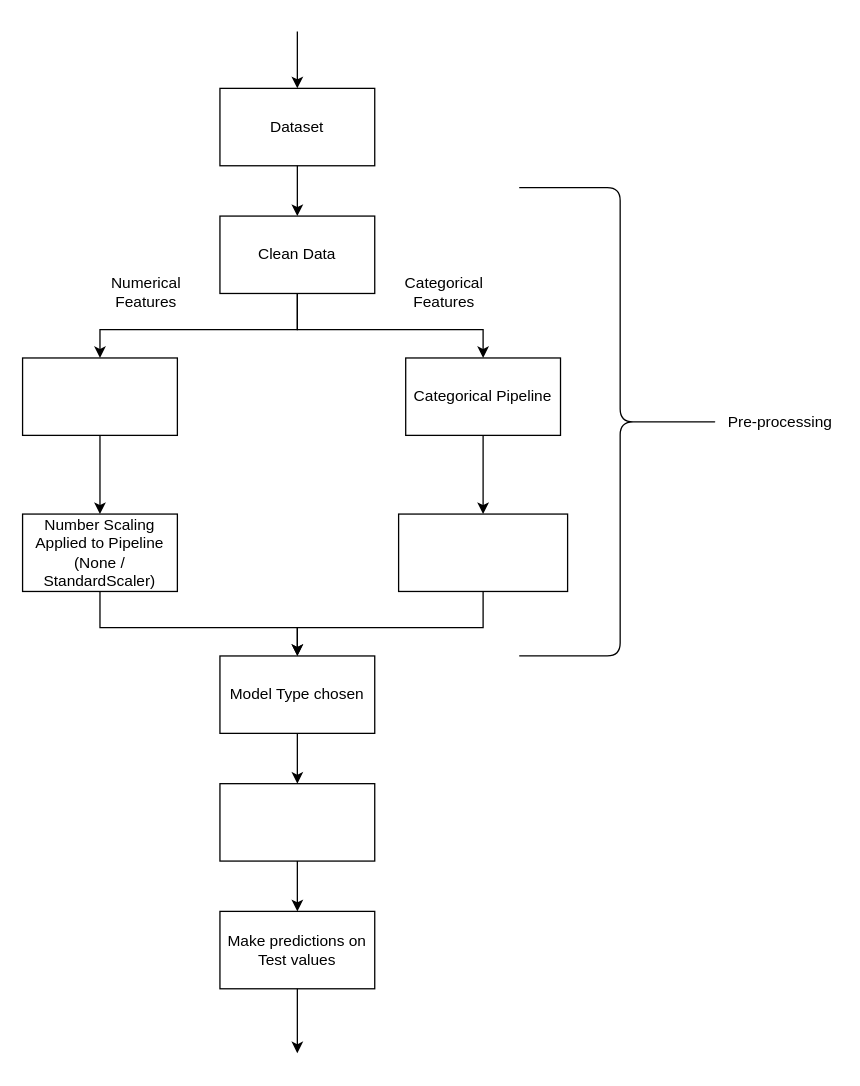
Image size: 860x1086. Some labels were removed from this diagram. Here are the shapes that lost their labels. From the top down, the box of each, then its label:
(21, 357, 177, 435): Numerical Pipeline
(397, 513, 568, 591): Categorical Encoding chosen (specifics applied depending on encoding strategy)
(219, 782, 375, 861): Perform 5-fold Cross Validation
